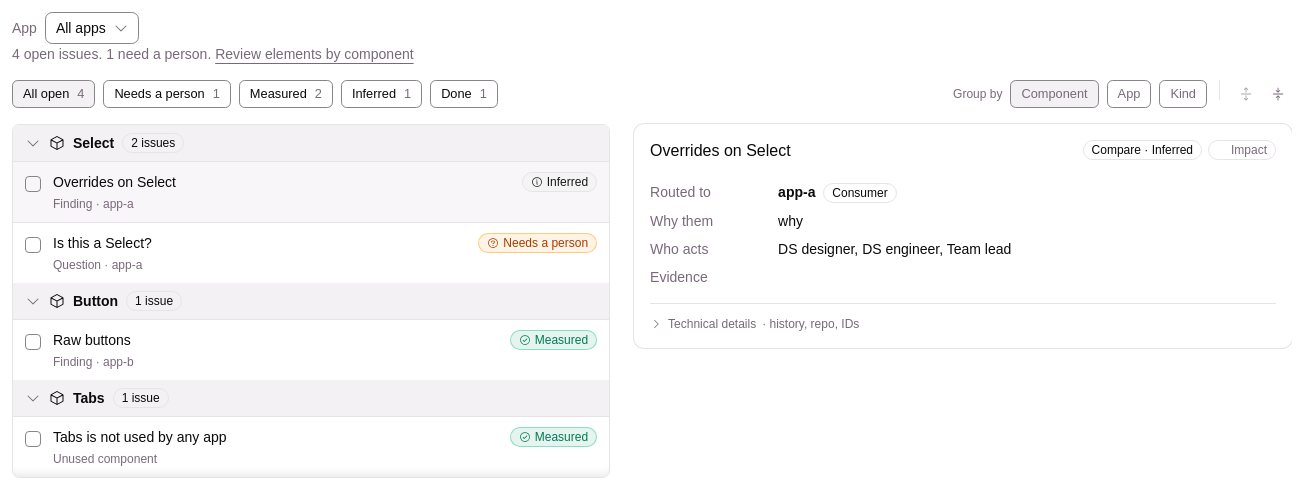
Test: the app selector narrows the Inbox to that app's issues
This screenshot has width=1304, height=495.
Select "app-b" in the dropdown named "App" at point(92, 28), box left=45, top=12, right=139, bottom=44
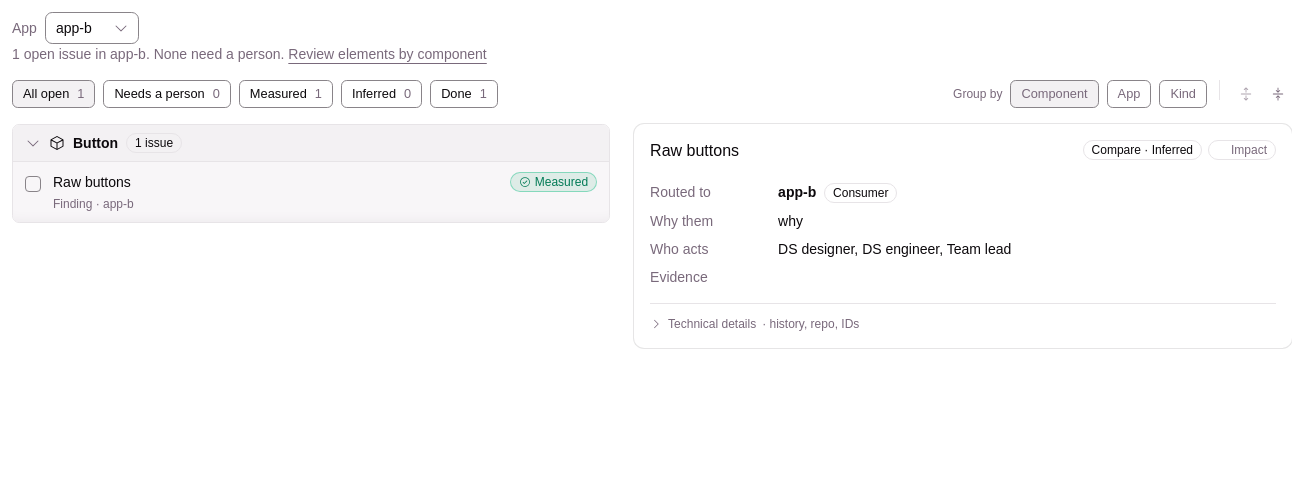
Now the text "in app-b" is shown, box left=91, top=46, right=146, bottom=62
